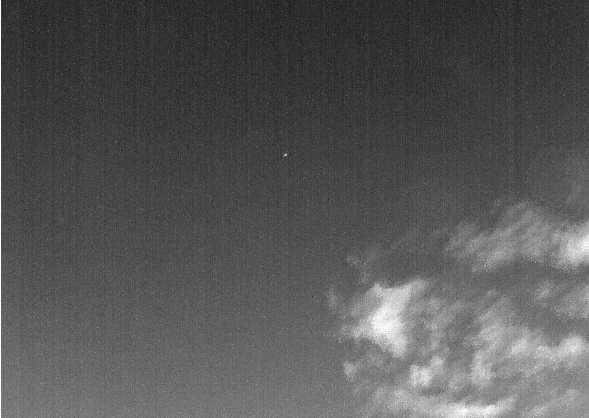dim target: (282, 152, 288, 158)
